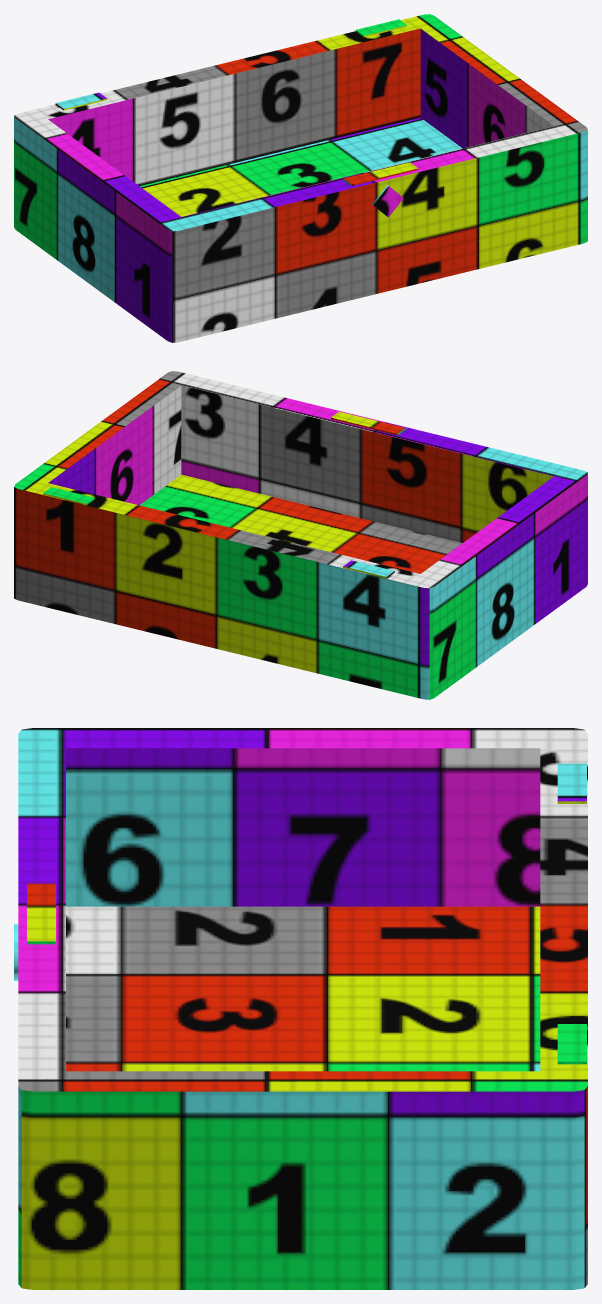
The model's file is Chest_Box.fbx.
The picture shows the model from 3 angles, top to bottom: view 1: azimuth 30°, elevation 25°; view 2: azimuth 150°, elevation 25°; view 3: azimuth 270°, elevation 25°; orthographic projection. The views are drawn at different scales.
Parts seen in each view (by area): view 1: Box009; view 2: Box009; view 3: Box009.
Boxes of the visible parts, <box> form: Box009: <box>14,14,587,342</box>; Box009: <box>14,371,587,699</box>; Box009: <box>14,728,587,1289</box>.
Bounding box in the file's own units: 73.23 × 48.87 × 18.89.
Materials: 1 (1 with a texture image).
